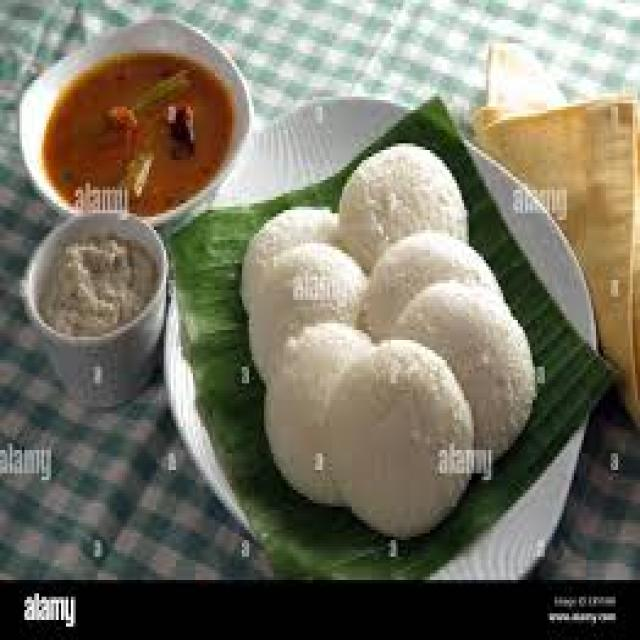IDLI: (322, 339, 475, 536), (394, 279, 539, 483), (267, 324, 367, 503), (334, 147, 468, 275), (252, 245, 361, 384), (362, 236, 504, 334), (248, 207, 344, 296)
